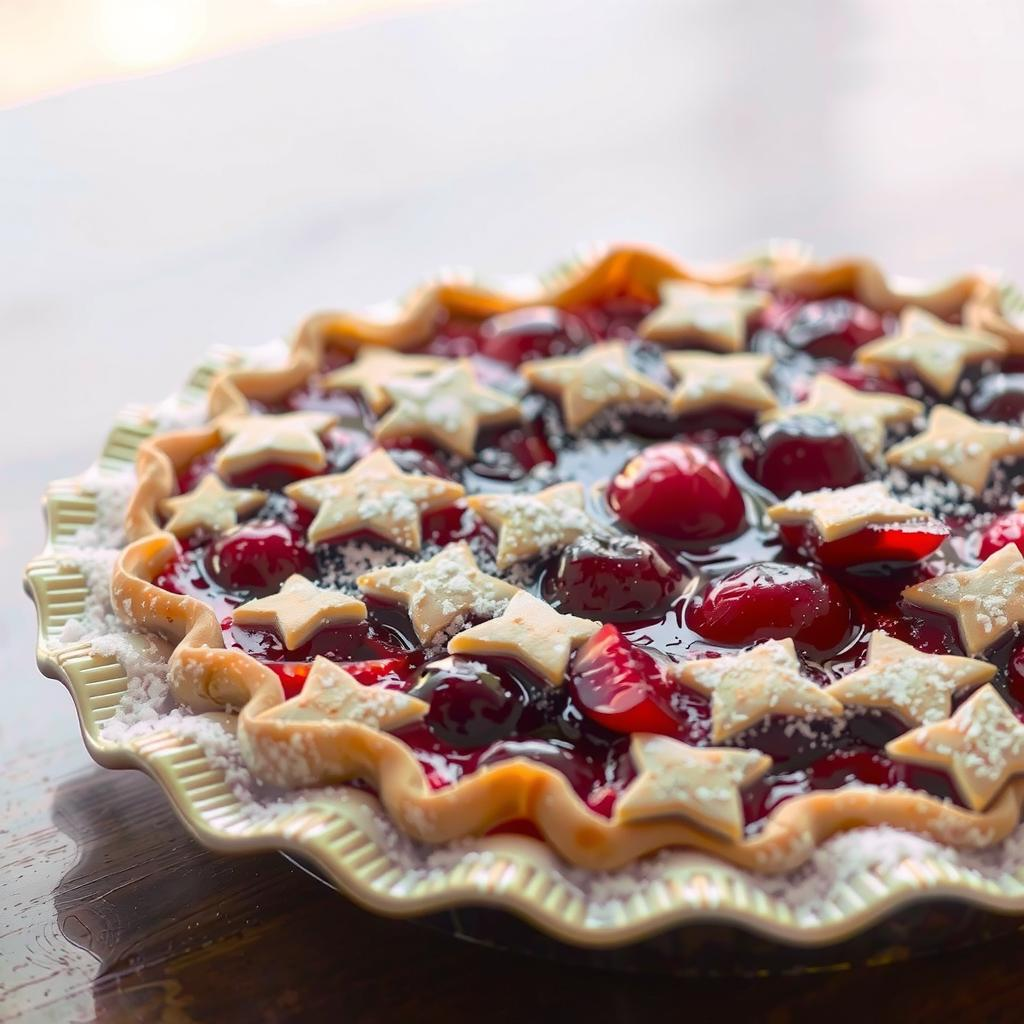pie: (90, 229, 1024, 880)
